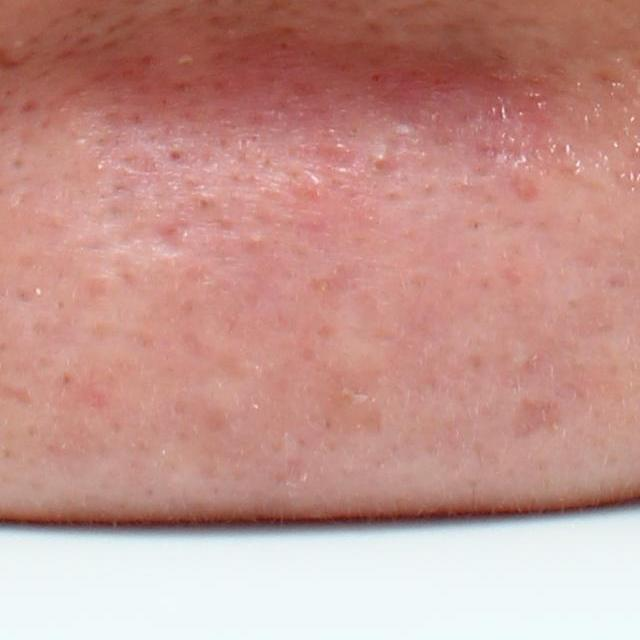atrophic_scar: (108, 221, 186, 259), (511, 396, 564, 442)
comedo: (166, 146, 187, 167)
papule: (243, 229, 267, 254), (368, 149, 390, 169)
